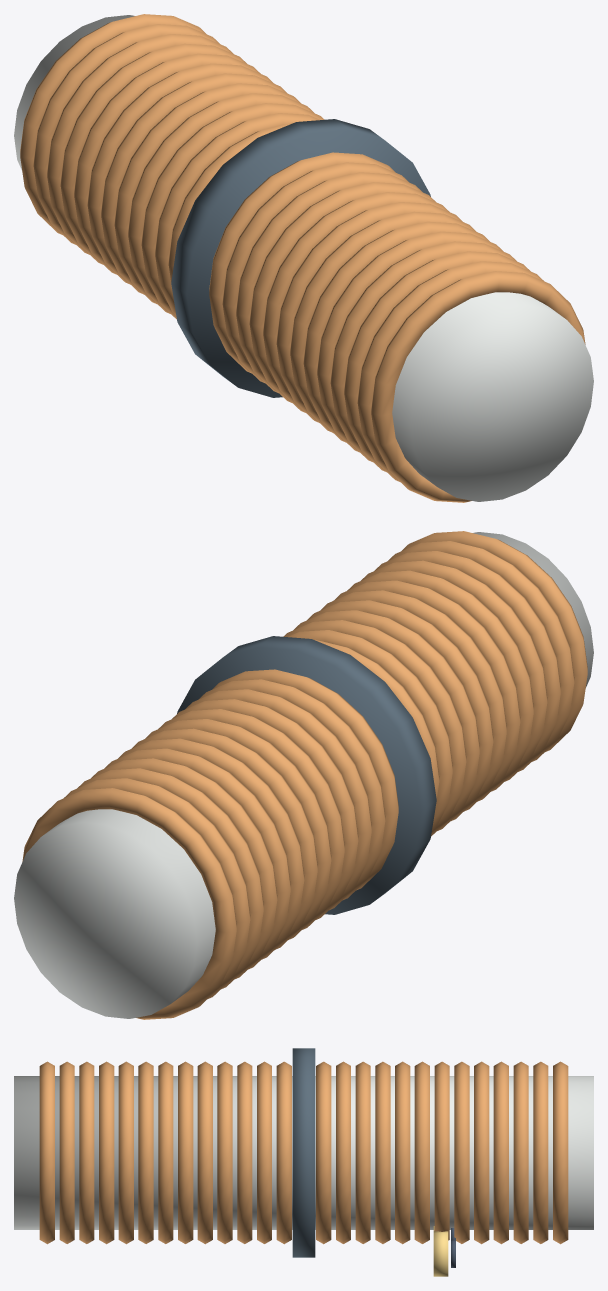
File: L84_28_MagneticTorqueRodZ_Fitted.fbx
The picture shows the model from 3 angles, top to bottom: view 1: azimuth 30°, elevation 25°; view 2: azimuth 150°, elevation 25°; view 3: azimuth 270°, elevation 25°; orthographic projection. The views are drawn at different scales.
Parts seen in each view (by area): view 1: L84_MagneticTorqueRodZ_Static__tintCC6629, L84_MagneticTorqueRodZ_Static__tintCCD4CF, L84_MagneticTorqueRodZ_Static__tint1C2933; view 2: L84_MagneticTorqueRodZ_Static__tintCC6629, L84_MagneticTorqueRodZ_Static__tintCCD4CF, L84_MagneticTorqueRodZ_Static__tint1C2933; view 3: L84_MagneticTorqueRodZ_Static__tintCC6629, L84_MagneticTorqueRodZ_Static__tintCCD4CF, L84_MagneticTorqueRodZ_Static__tint1C2933, L84_MagneticTorqueRodZ_Static__tintF2B547.
Part boxes in pixels (x1=…): L84_MagneticTorqueRodZ_Static__tintCC6629: x1=20, y1=14, x2=585, y2=502; L84_MagneticTorqueRodZ_Static__tintCCD4CF: x1=14, y1=15, x2=593, y2=501; L84_MagneticTorqueRodZ_Static__tint1C2933: x1=171, y1=119, x2=430, y2=397; L84_MagneticTorqueRodZ_Static__tintCC6629: x1=22, y1=531, x2=587, y2=1019; L84_MagneticTorqueRodZ_Static__tintCCD4CF: x1=14, y1=532, x2=593, y2=1018; L84_MagneticTorqueRodZ_Static__tint1C2933: x1=177, y1=636, x2=436, y2=914; L84_MagneticTorqueRodZ_Static__tintCC6629: x1=39, y1=1061, x2=568, y2=1244; L84_MagneticTorqueRodZ_Static__tintCCD4CF: x1=14, y1=1076, x2=593, y2=1229; L84_MagneticTorqueRodZ_Static__tint1C2933: x1=292, y1=1048, x2=315, y2=1257; L84_MagneticTorqueRodZ_Static__tintF2B547: x1=433, y1=1226, x2=448, y2=1276.
Bounding box in the file's own units: 5.76 × 5.76 × 15.84.
